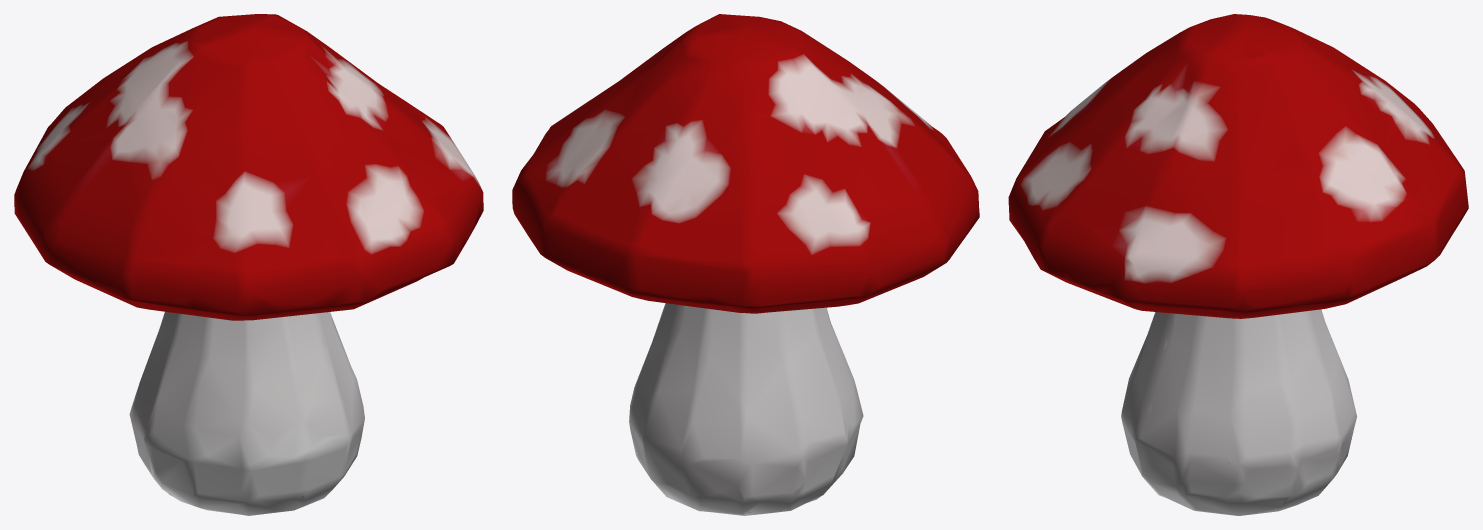
File: gen3d-giant-toadstool-lod0.glb
3 renders of one model, left to right at view 1: azimuth 30°, elevation 25°; view 2: azimuth 150°, elevation 25°; view 3: azimuth 270°, elevation 25°, orthographic.
Visible parts, largest first — view 1: part_0; view 2: part_0; view 3: part_0.
Part boxes in pixels (x1,y1,x2,y2): part_0: [14, 14, 483, 515]; part_0: [512, 14, 979, 515]; part_0: [1008, 14, 1468, 515].
Bounding box in the file's own units: 0.9041 × 0.996 × 0.8929.
